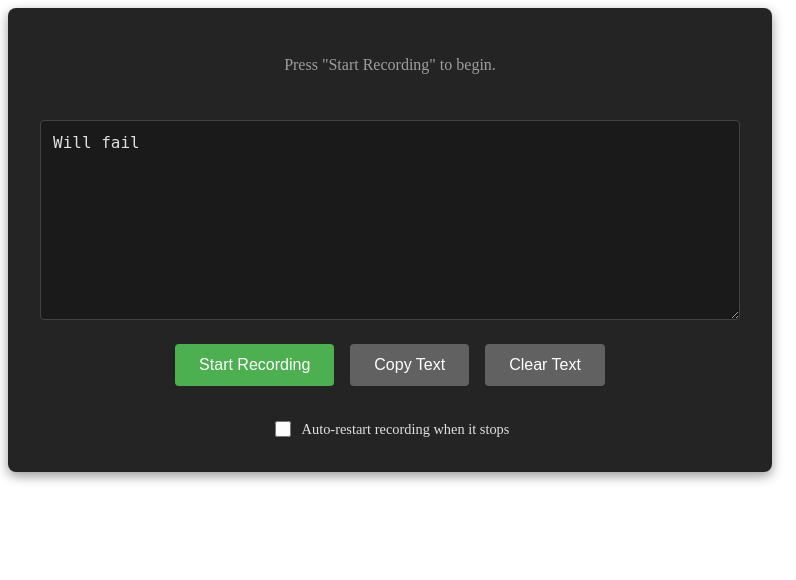
Test: TranscriptionPad Component › shows failure status when copy throws
Click the button "Copy Text".
click(410, 365)  # box x1=350 y1=344 x2=469 y2=386
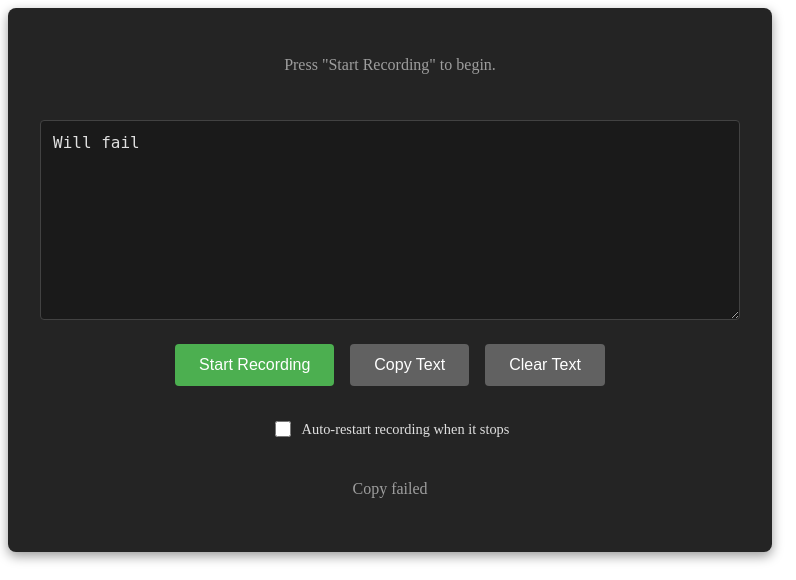
Check: the text "Copy failed" is shown, box x1=352 y1=480 x2=428 y2=497
